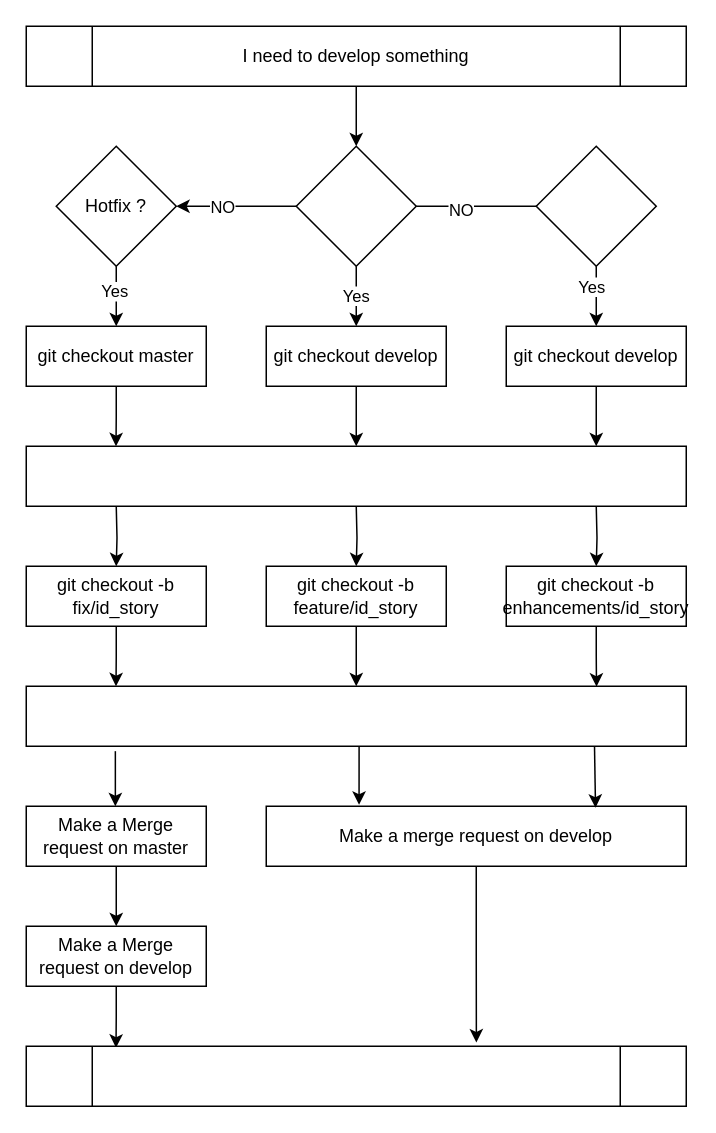
Image size: 716x1133. Some labels were removed from this diagram. Each missing label, with the box of its shape:
Do your Stuff: (25, 685, 686, 746)
Enhancements: (535, 145, 656, 266)
Features ?: (295, 145, 416, 266)
git pull: (25, 445, 686, 506)
Merge request to validate with validator: (25, 1045, 686, 1106)
